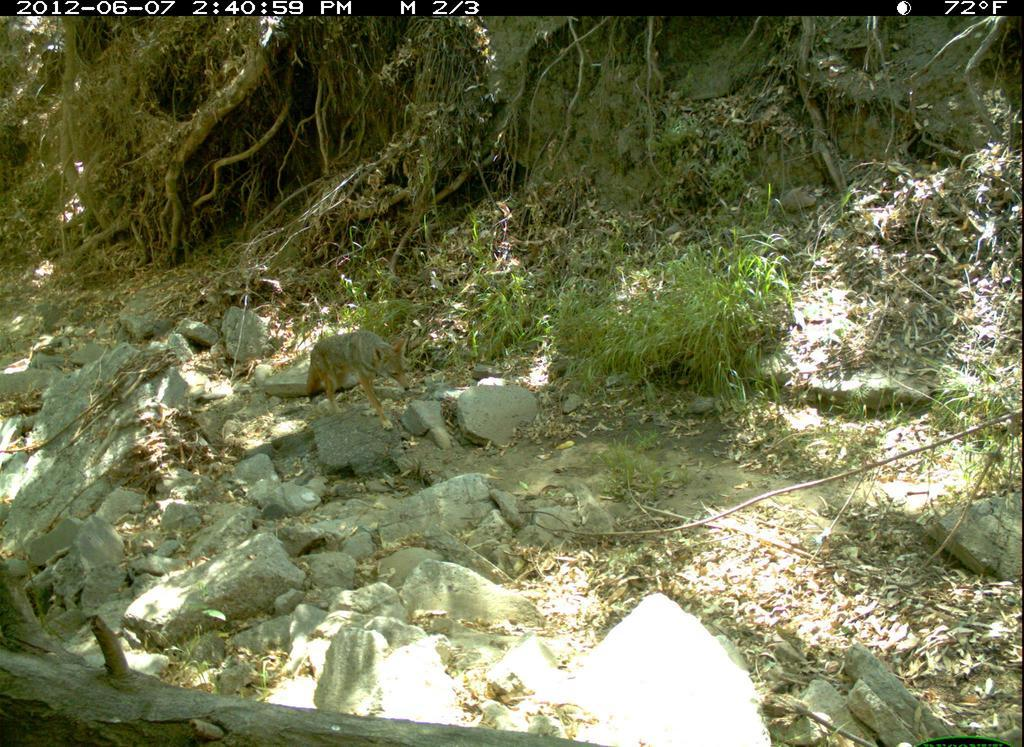coyote: (308, 329, 414, 429)
